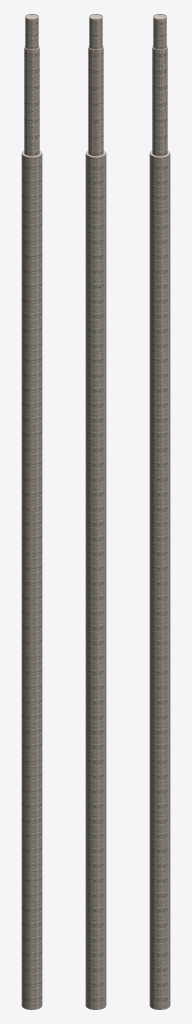
File: Building 8.fbx
The picture shows the model from 3 angles, left to right: view 1: azimuth 90°, elevation 25°; view 2: azimuth 150°, elevation 25°; view 3: azimuth 270°, elevation 25°; orthographic projection.
Visible parts, largest first — view 1: Building_8; view 2: Building_8; view 3: Building_8.
Boxes of the visible parts, box(x1,y1,x2,y2) form: Building_8: box(21, 14, 42, 1009); Building_8: box(85, 14, 106, 1009); Building_8: box(149, 14, 170, 1009).
Bounding box in the file's own units: 25.23 × 1344 × 25.23.
Materials: 4 (2 with a texture image).
